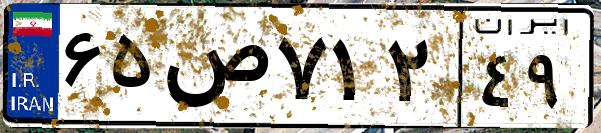1: (330, 28, 385, 110)
2: (385, 28, 445, 110)
4: (475, 38, 525, 113)
5: (110, 28, 158, 98)
6: (57, 26, 110, 100)
7: (270, 28, 330, 110)
9: (525, 38, 570, 115)
ص: (158, 20, 270, 120)
